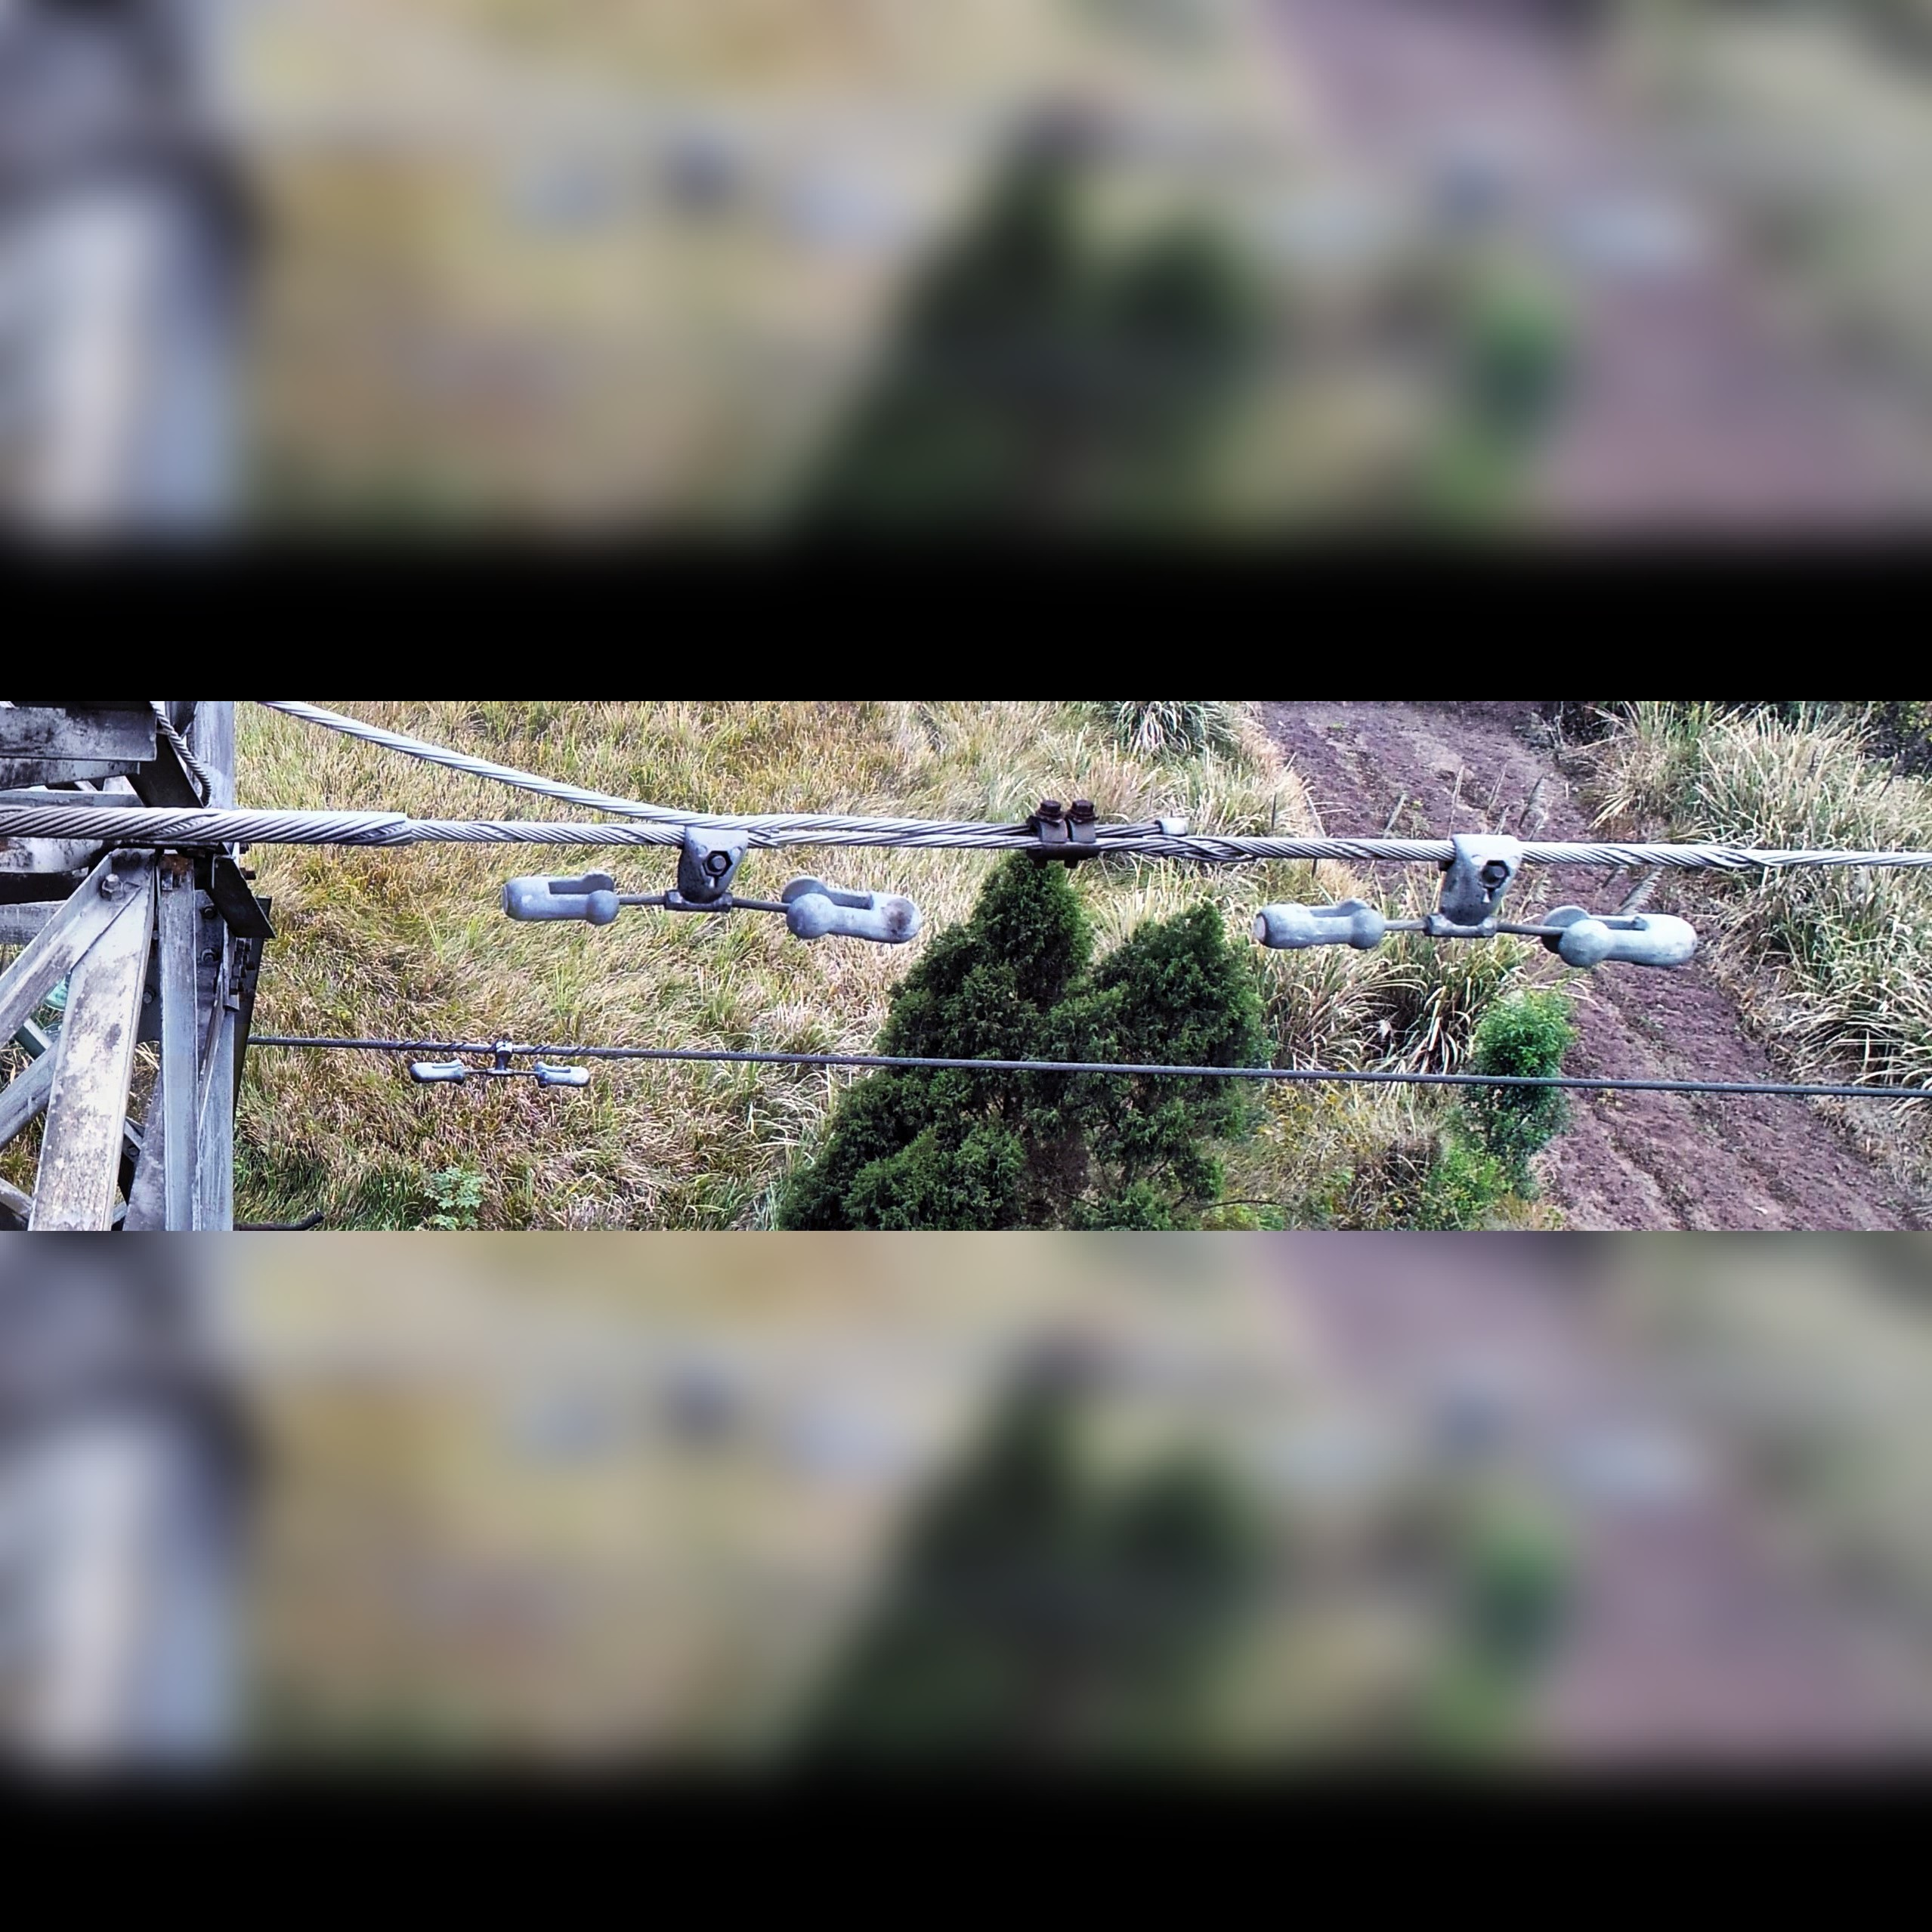Shockproof hammer: (1251, 821, 1720, 984), (476, 805, 932, 955)
